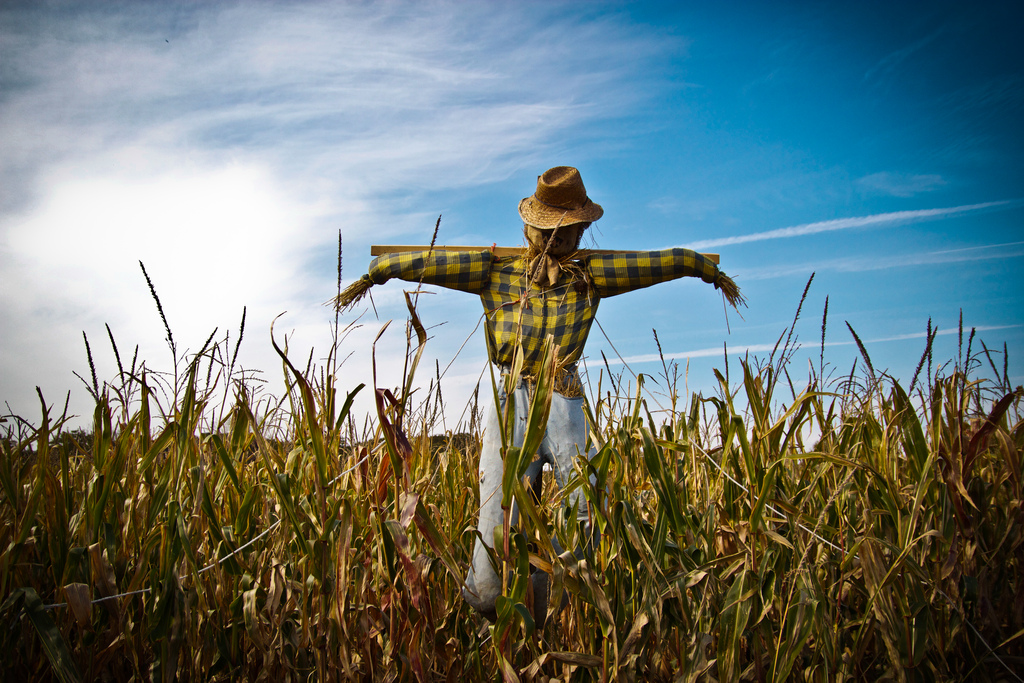person-like: (321, 159, 752, 629)
